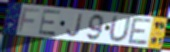9: (86, 13, 105, 41)
E: (127, 17, 153, 47), (38, 9, 62, 37)
F: (16, 7, 42, 34)
J: (65, 13, 85, 38)
U: (107, 16, 132, 44)
